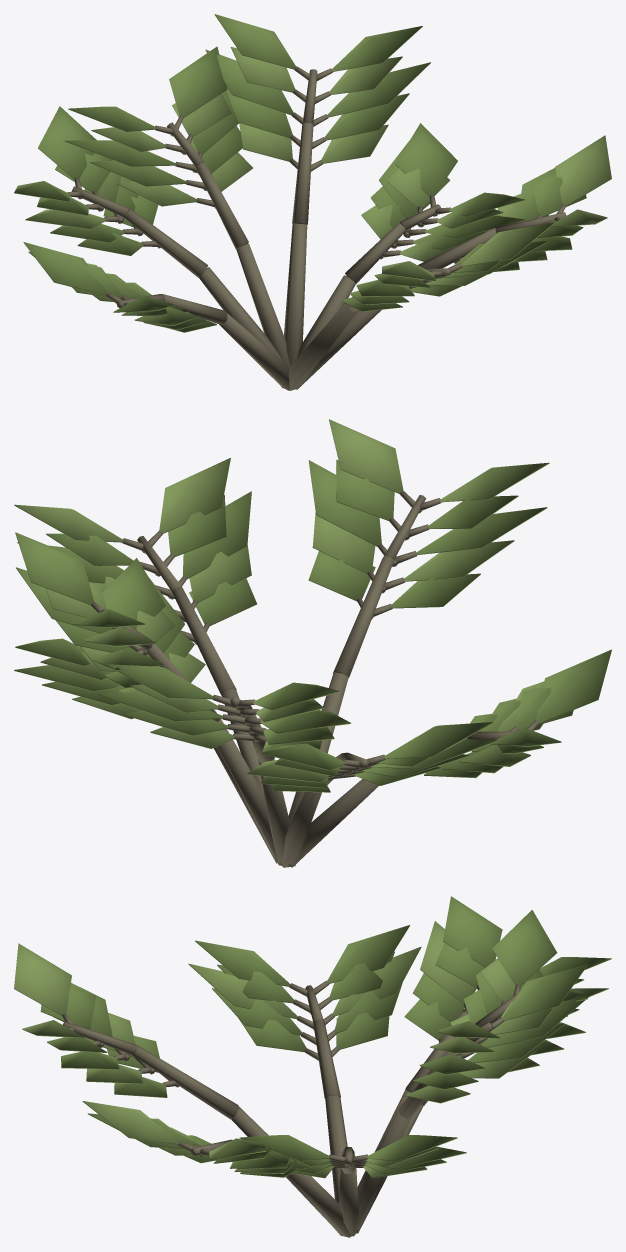
Rendered from beech_understory_bush.glb.
The picture shows the model from 3 angles, top to bottom: view 1: azimuth 30°, elevation 25°; view 2: azimuth 150°, elevation 25°; view 3: azimuth 270°, elevation 25°; orthographic projection. The views are drawn at different scales.
Visible parts, largest first — view 1: beech_understory_bush_painted_export; view 2: beech_understory_bush_painted_export; view 3: beech_understory_bush_painted_export.
Boxes of the visible parts, x1,y1,x2,y2 form: beech_understory_bush_painted_export: (14,14,611,390); beech_understory_bush_painted_export: (14,419,611,867); beech_understory_bush_painted_export: (14,896,611,1237).
Bounding box in the file's own units: 2.06 × 1.08 × 2.01.
